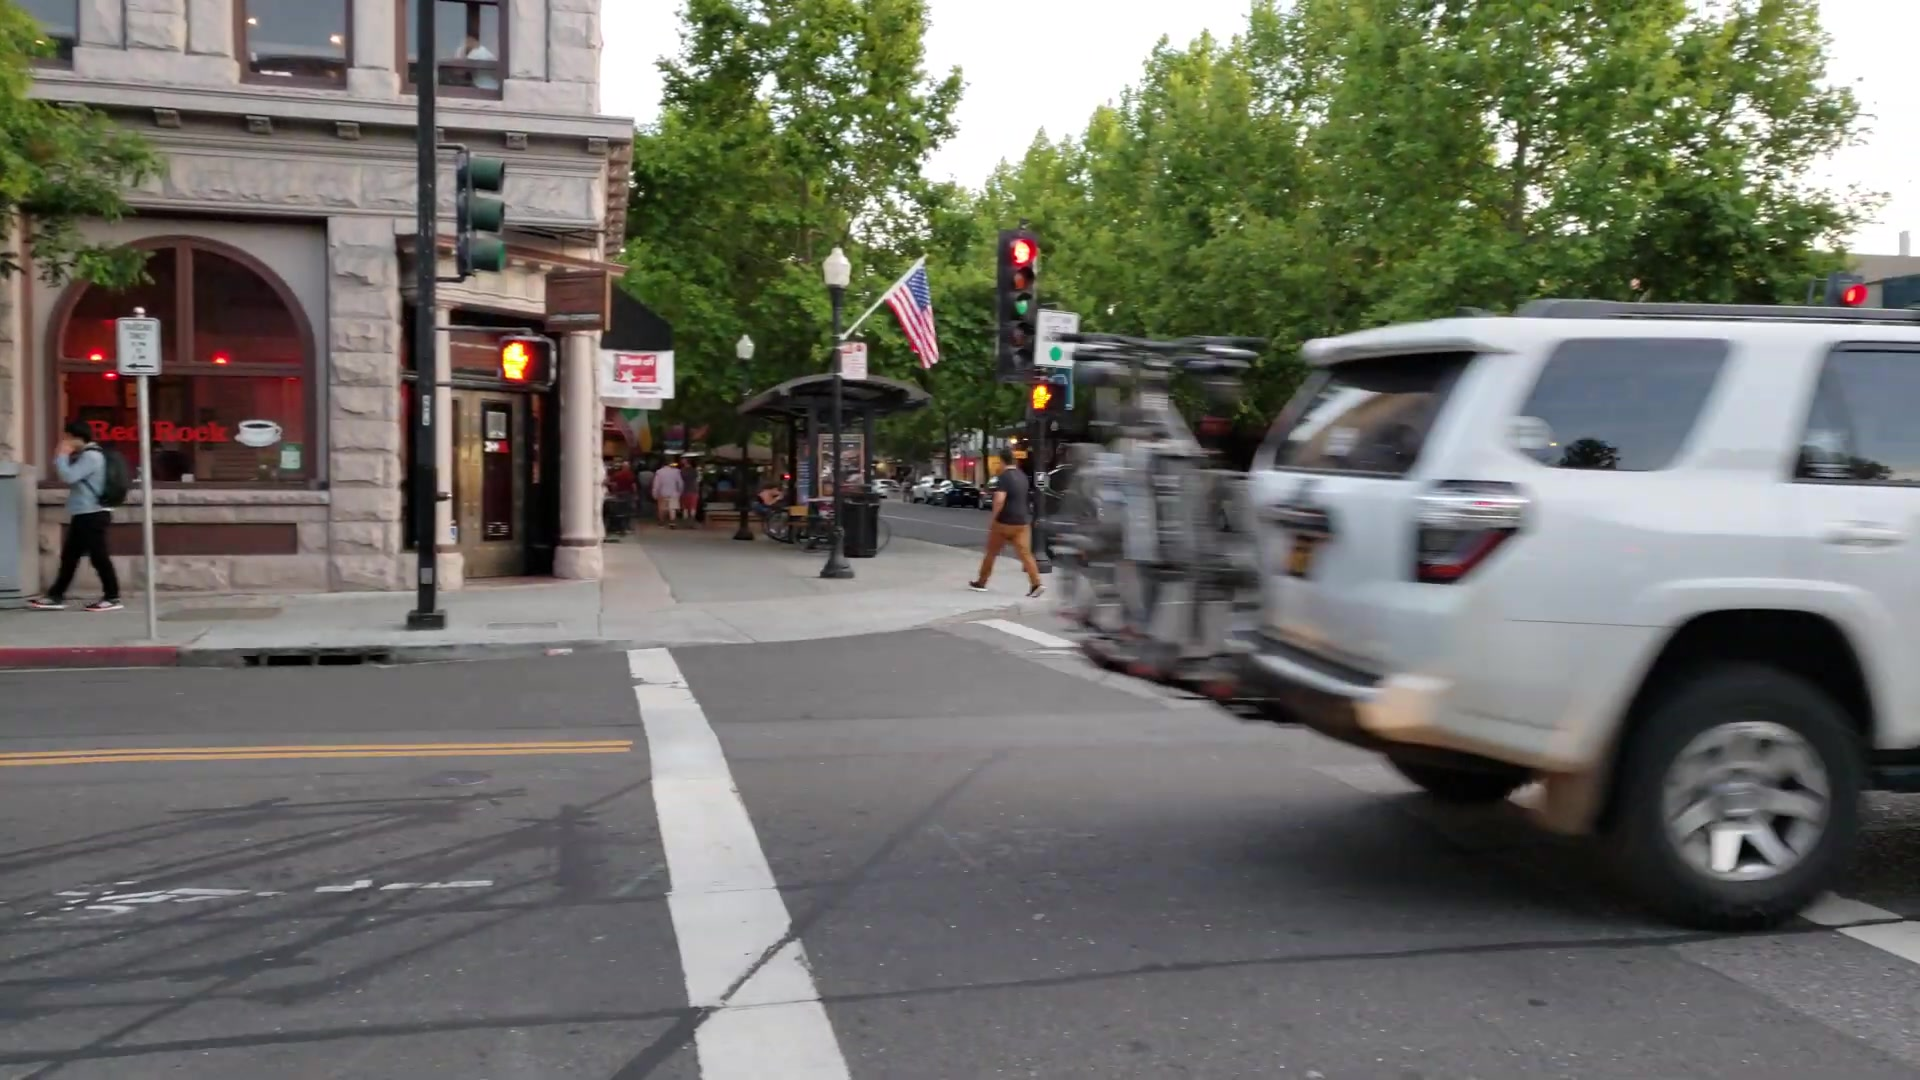vehicle: (1249, 324, 1920, 923)
